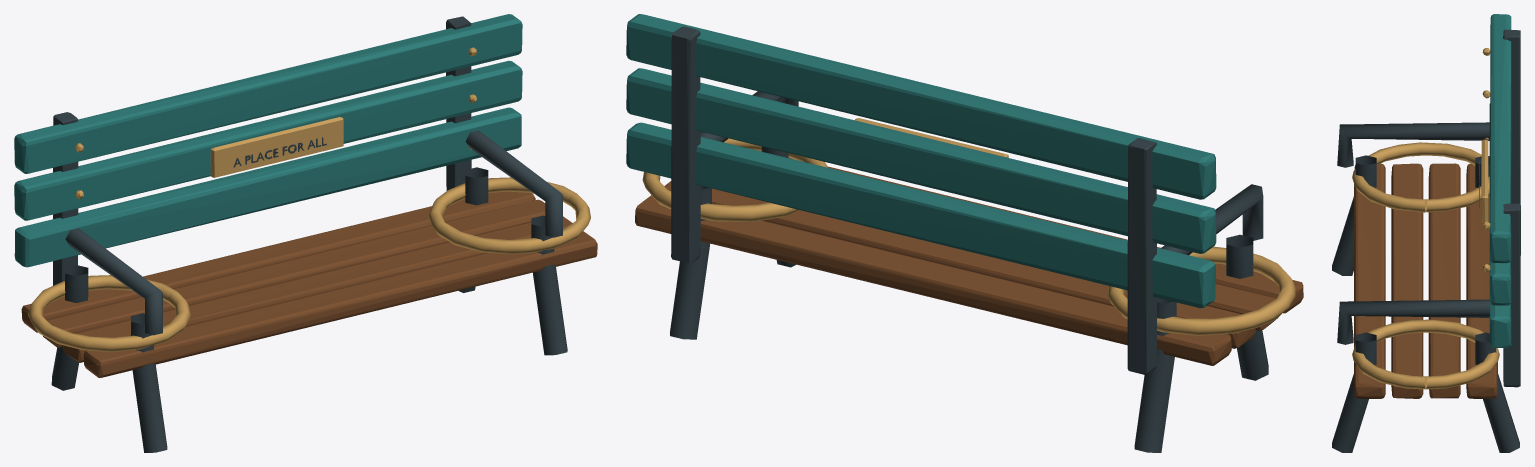
The model's file is prop_aegis_civic_bench_lod1.glb.
3 views of the same model, side by side, from view 1: azimuth 30°, elevation 25°; view 2: azimuth 150°, elevation 25°; view 3: azimuth 270°, elevation 25° (orthographic). The views are drawn at different scales.
Visible parts, largest first — view 1: aegis_civic_bench.001; view 2: aegis_civic_bench.001; view 3: aegis_civic_bench.001.
Part boxes in pixels (bbox=[...]): aegis_civic_bench.001: bbox=[14, 14, 597, 452]; aegis_civic_bench.001: bbox=[626, 14, 1303, 452]; aegis_civic_bench.001: bbox=[1332, 14, 1520, 452].
Size of the model in its own units: 3.03 by 1.43 by 1.01.
